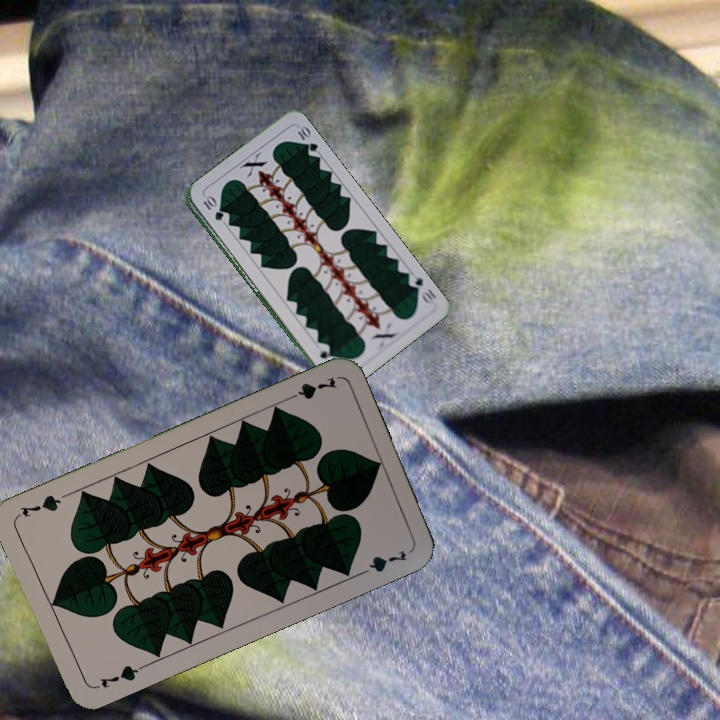G10: (404, 270, 439, 306), (199, 193, 225, 223)
G7: (282, 373, 340, 404), (96, 661, 146, 691)
